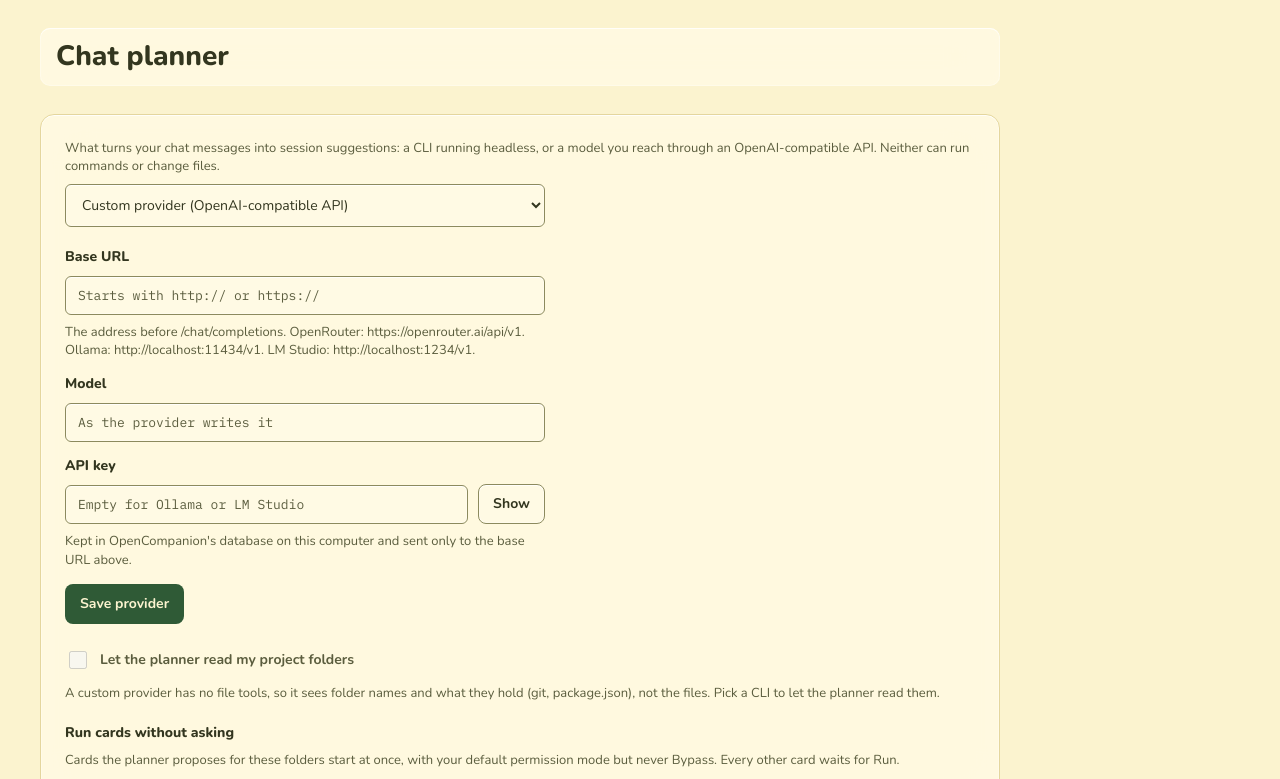
the provider form names what is missing instead of saving
This screenshot has width=1280, height=779.
Click the button "Save provider": (125, 604) [65,584,184,624]
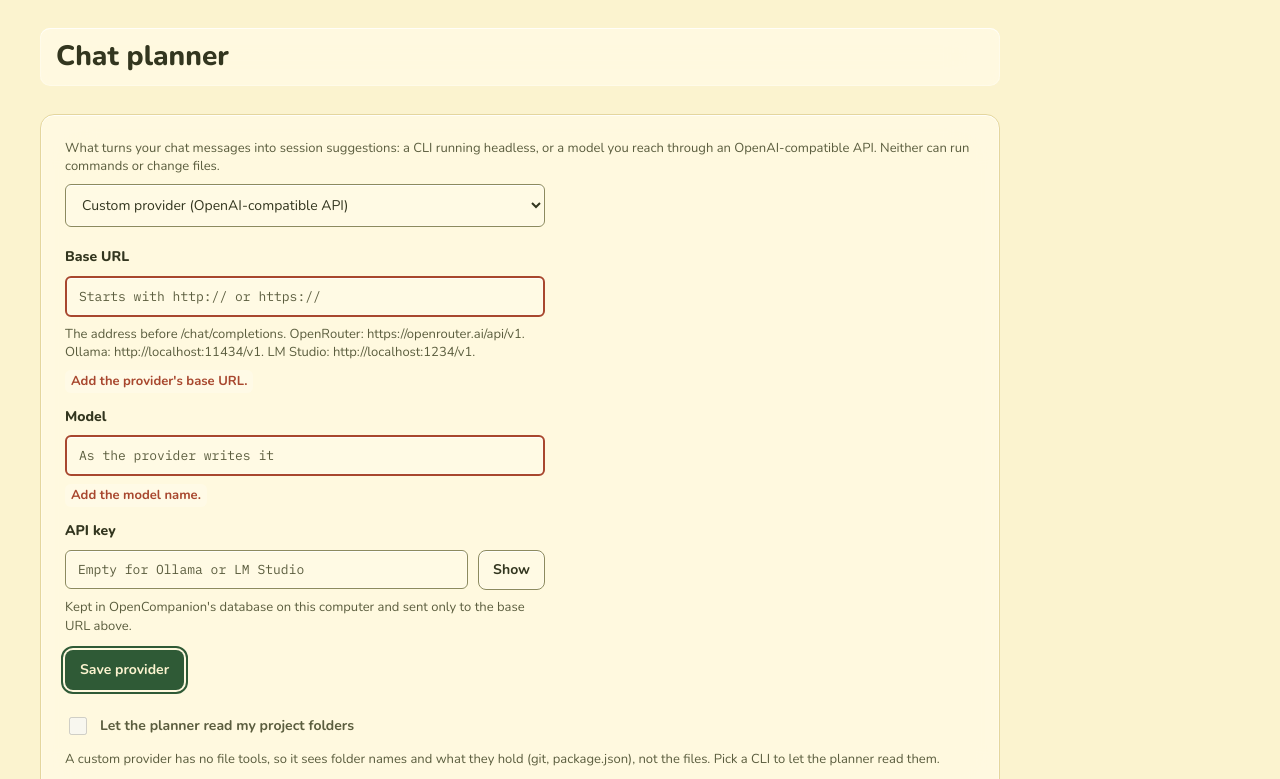
Result: the text "Add the provider's base URL." is shown at [65,370,253,393]
Result: the text "Add the model name." is shown at [65,484,207,507]
In the field labelled "Base URL": (305, 296) [65,276,545,317], type "localhost:11434/v1"
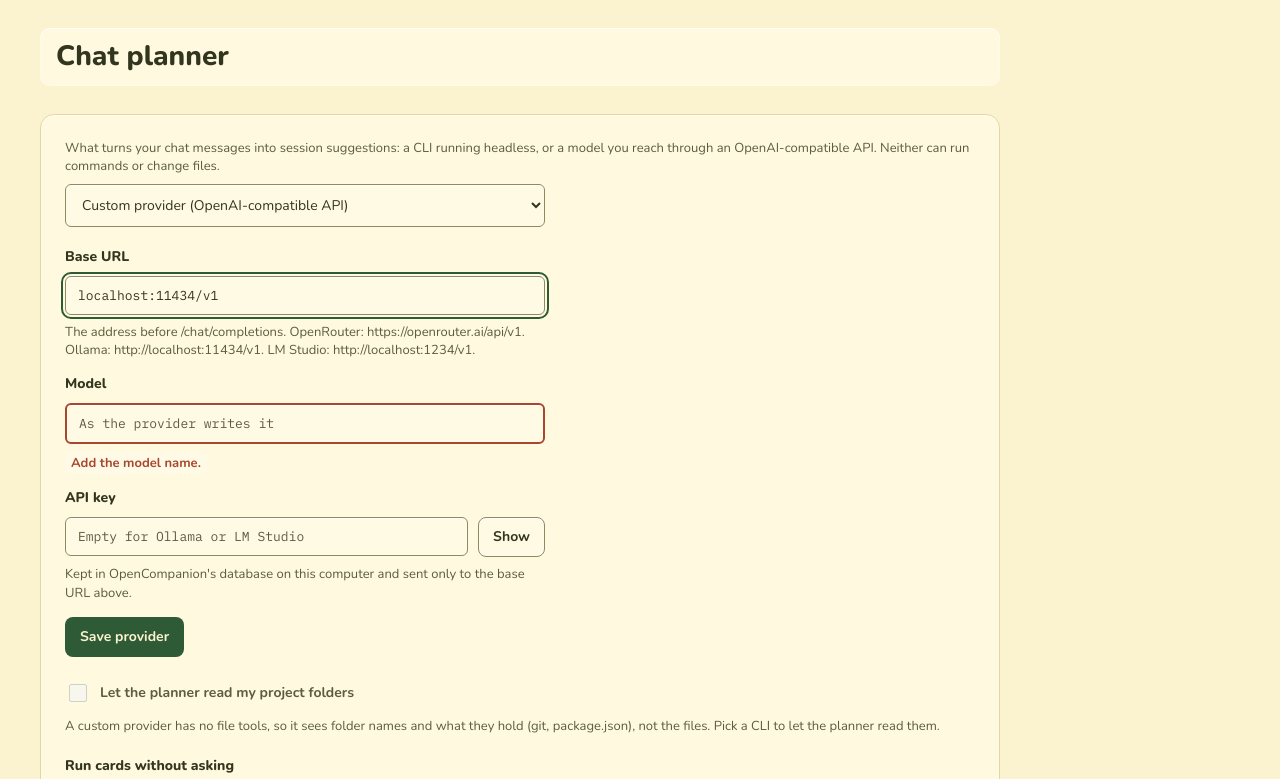
In the field labelled "Model": (305, 423) [65,403,545,444], type "llama3.1"
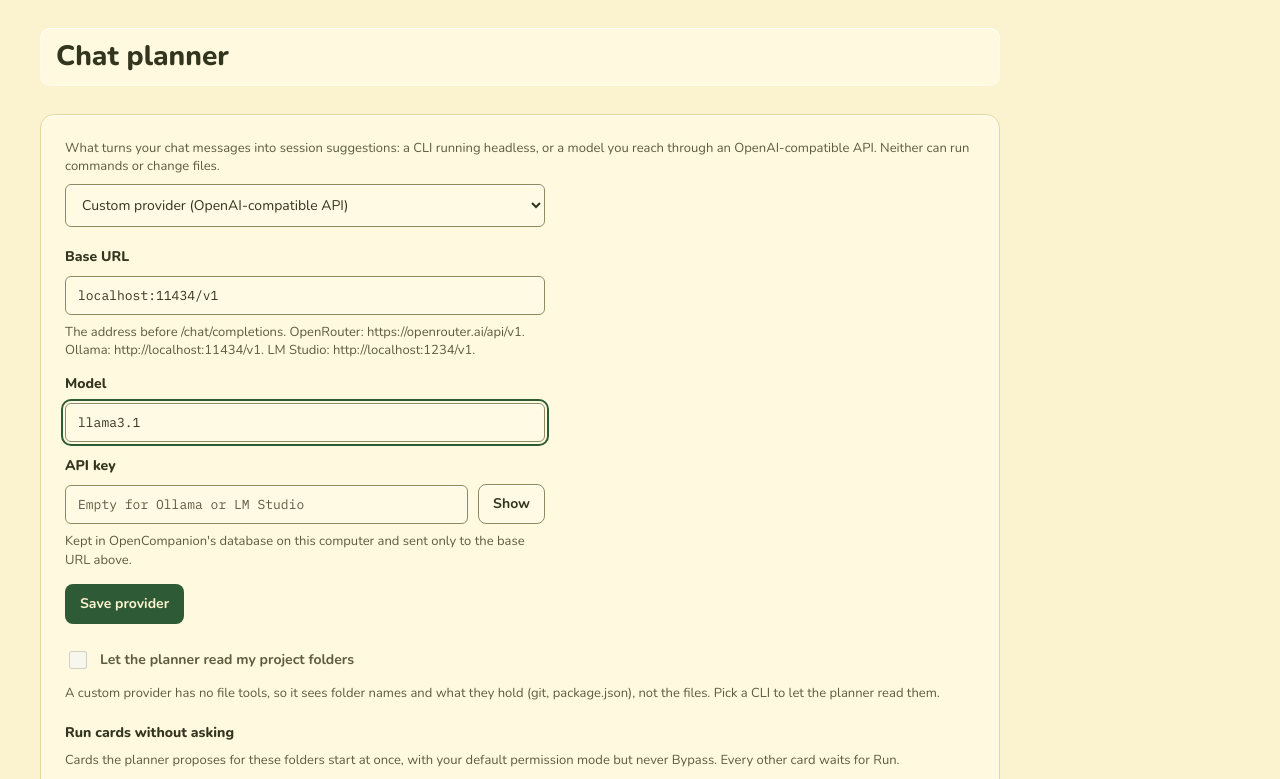
Click the button "Save provider": (125, 604) [65,584,184,624]
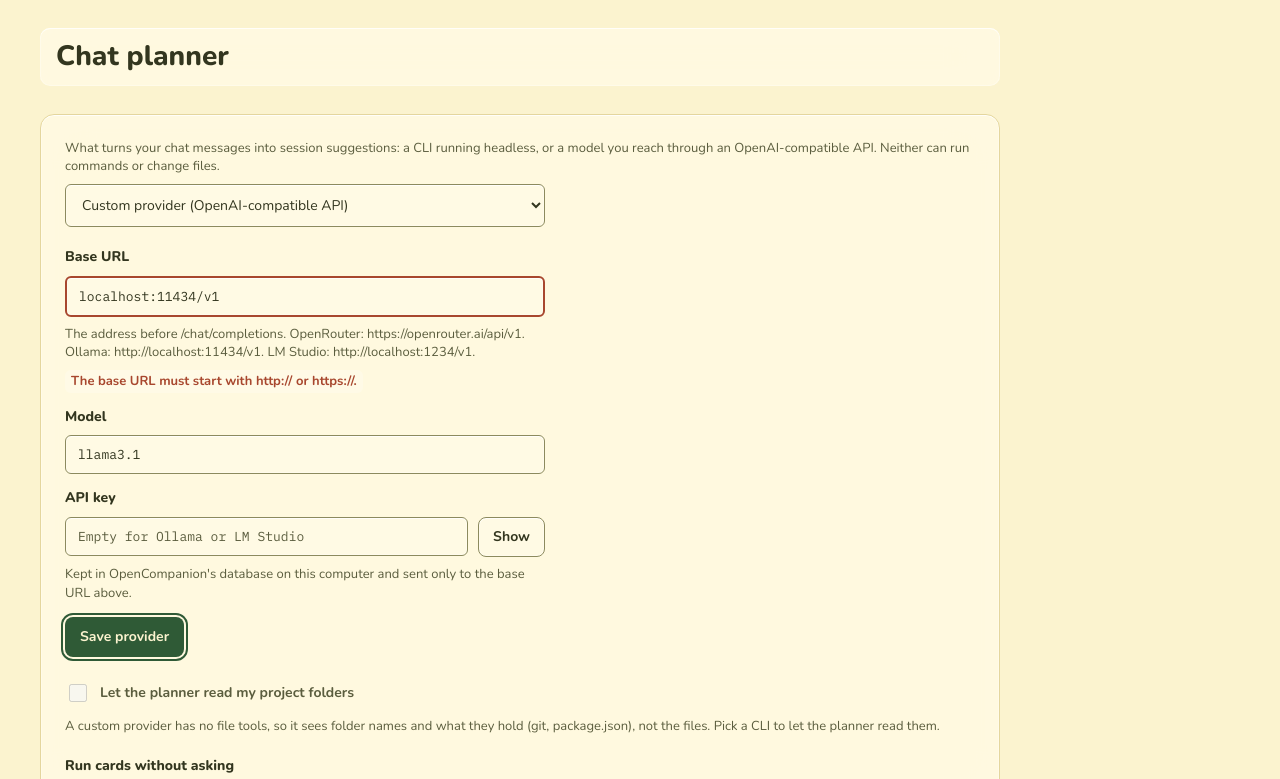
Result: the text "The base URL must start with http:// or https://." is shown at [65,370,363,393]
